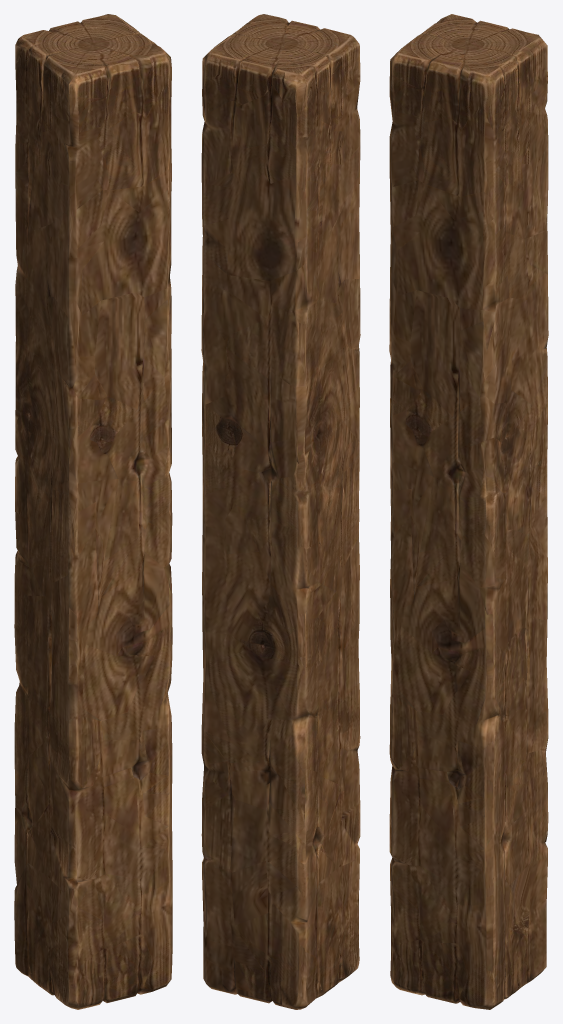
Rendered from obstacle-wall-wood.glb.
3 views of the same model, side by side, from view 1: azimuth 30°, elevation 25°; view 2: azimuth 150°, elevation 25°; view 3: azimuth 330°, elevation 25° (orthographic).
Bounding box in the file's own units: 0.2208 × 1.9 × 0.2208.
1 material, 1 textured.
